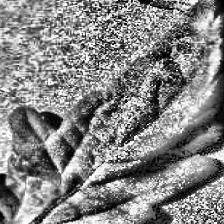Anthracnose Fruit Rot: (161, 87, 214, 138), (10, 176, 55, 224), (51, 217, 111, 224)
